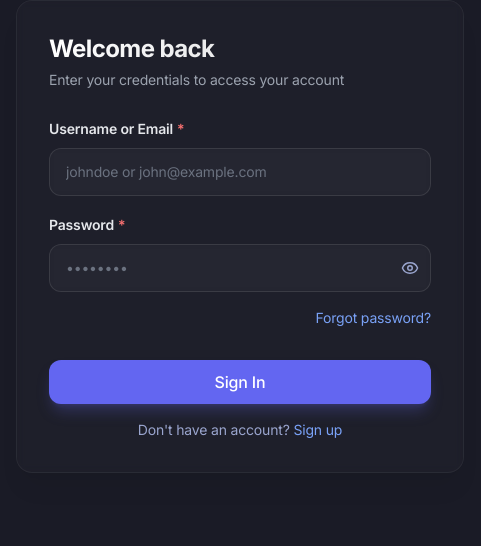
Authentication Flow Integration › Login Flow › should validate form fields before submission
# Try to submit empty form
Click the button "Sign In": (240, 382) [49, 360, 431, 404]
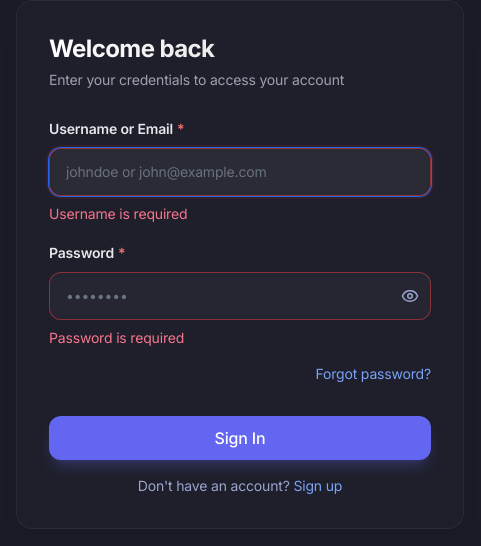
Expected: the text "Username is required" is shown, [49, 205, 187, 222]
Expected: the text "Password is required" is shown, [49, 329, 184, 346]
